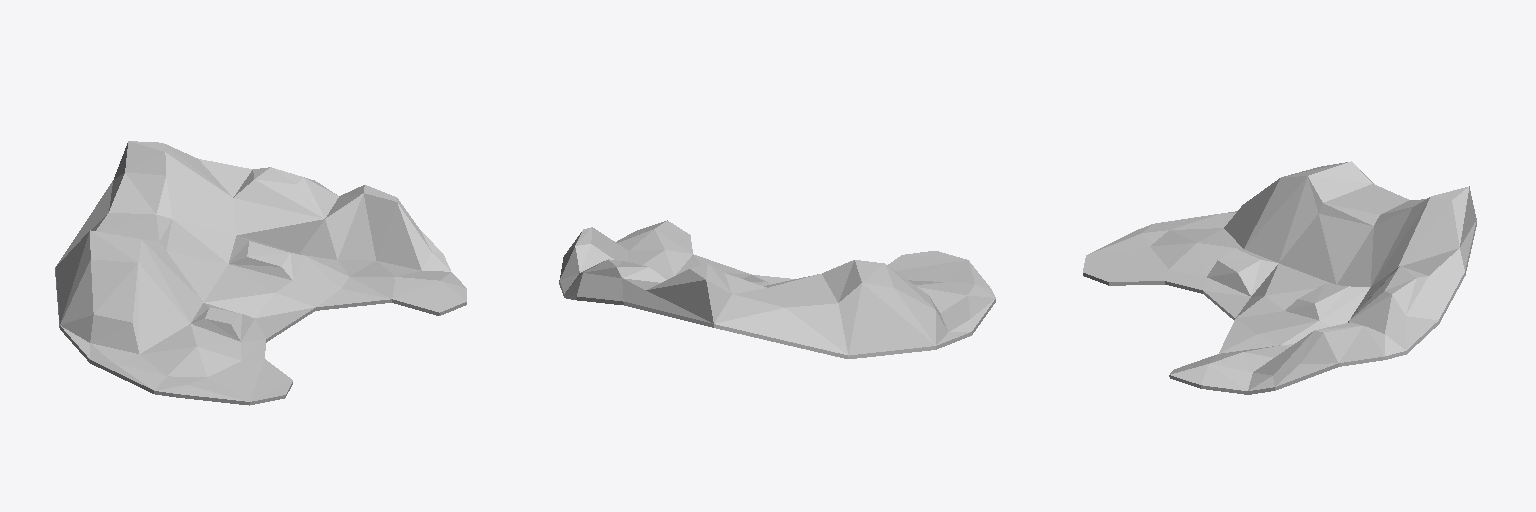
File: grass.obj
The picture shows the model from 3 angles: view 1: azimuth 30°, elevation 25°; view 2: azimuth 150°, elevation 25°; view 3: azimuth 270°, elevation 25°; orthographic projection.
Bounding box in the file's own units: 6.6 × 1.83 × 6.1.